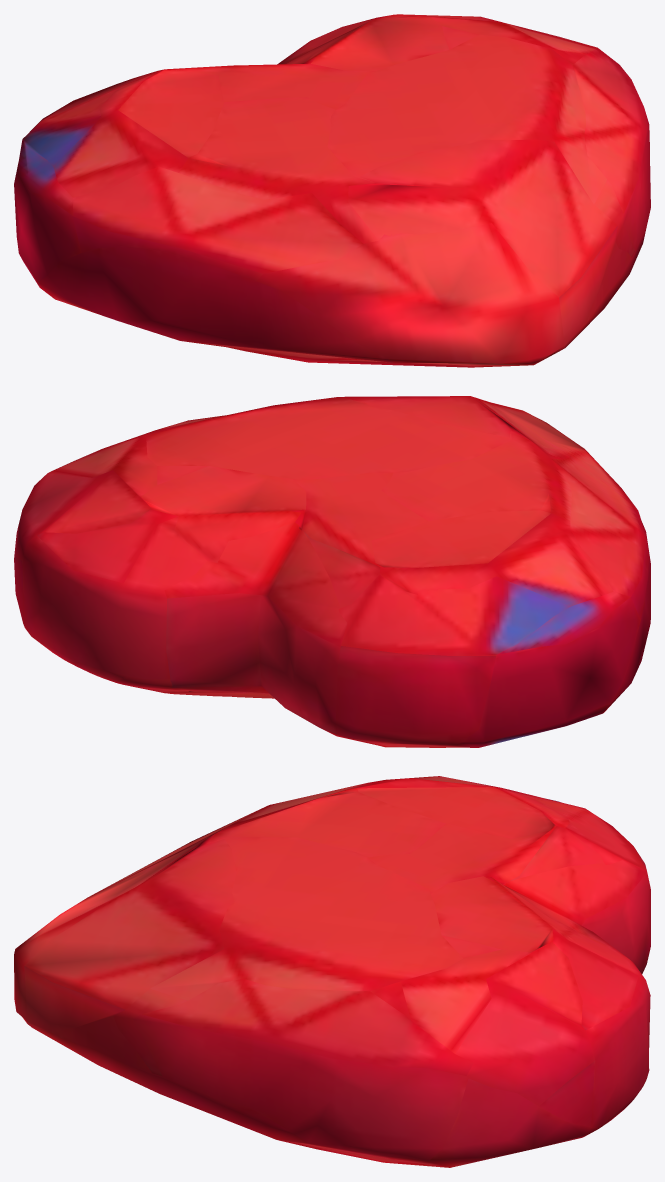
3 views of the same model, one above another, from view 1: azimuth 30°, elevation 25°; view 2: azimuth 150°, elevation 25°; view 3: azimuth 270°, elevation 25° (orthographic). The views are drawn at different scales.
Parts seen in each view (by area): view 1: material; view 2: material; view 3: material.
Boxes of the visible parts, x1,y1,x2,y2 form: material: (14,14,650,367); material: (14,396,650,747); material: (14,776,650,1167).
Size of the model in its own units: 1 by 0.3196 by 0.9307.
1 material, 1 textured.
